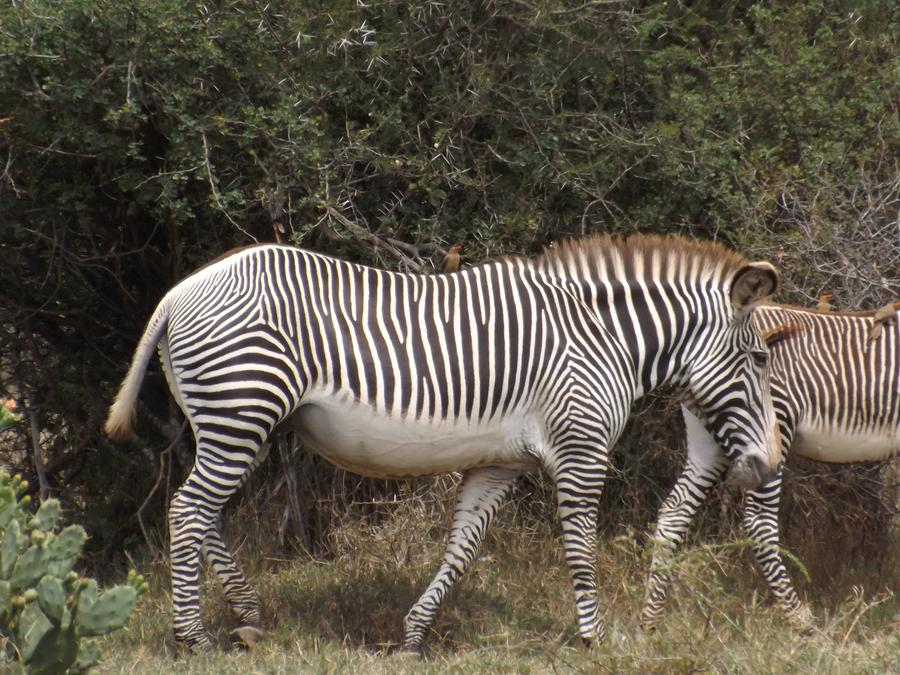zebra_grevys: (165, 246, 611, 448)
